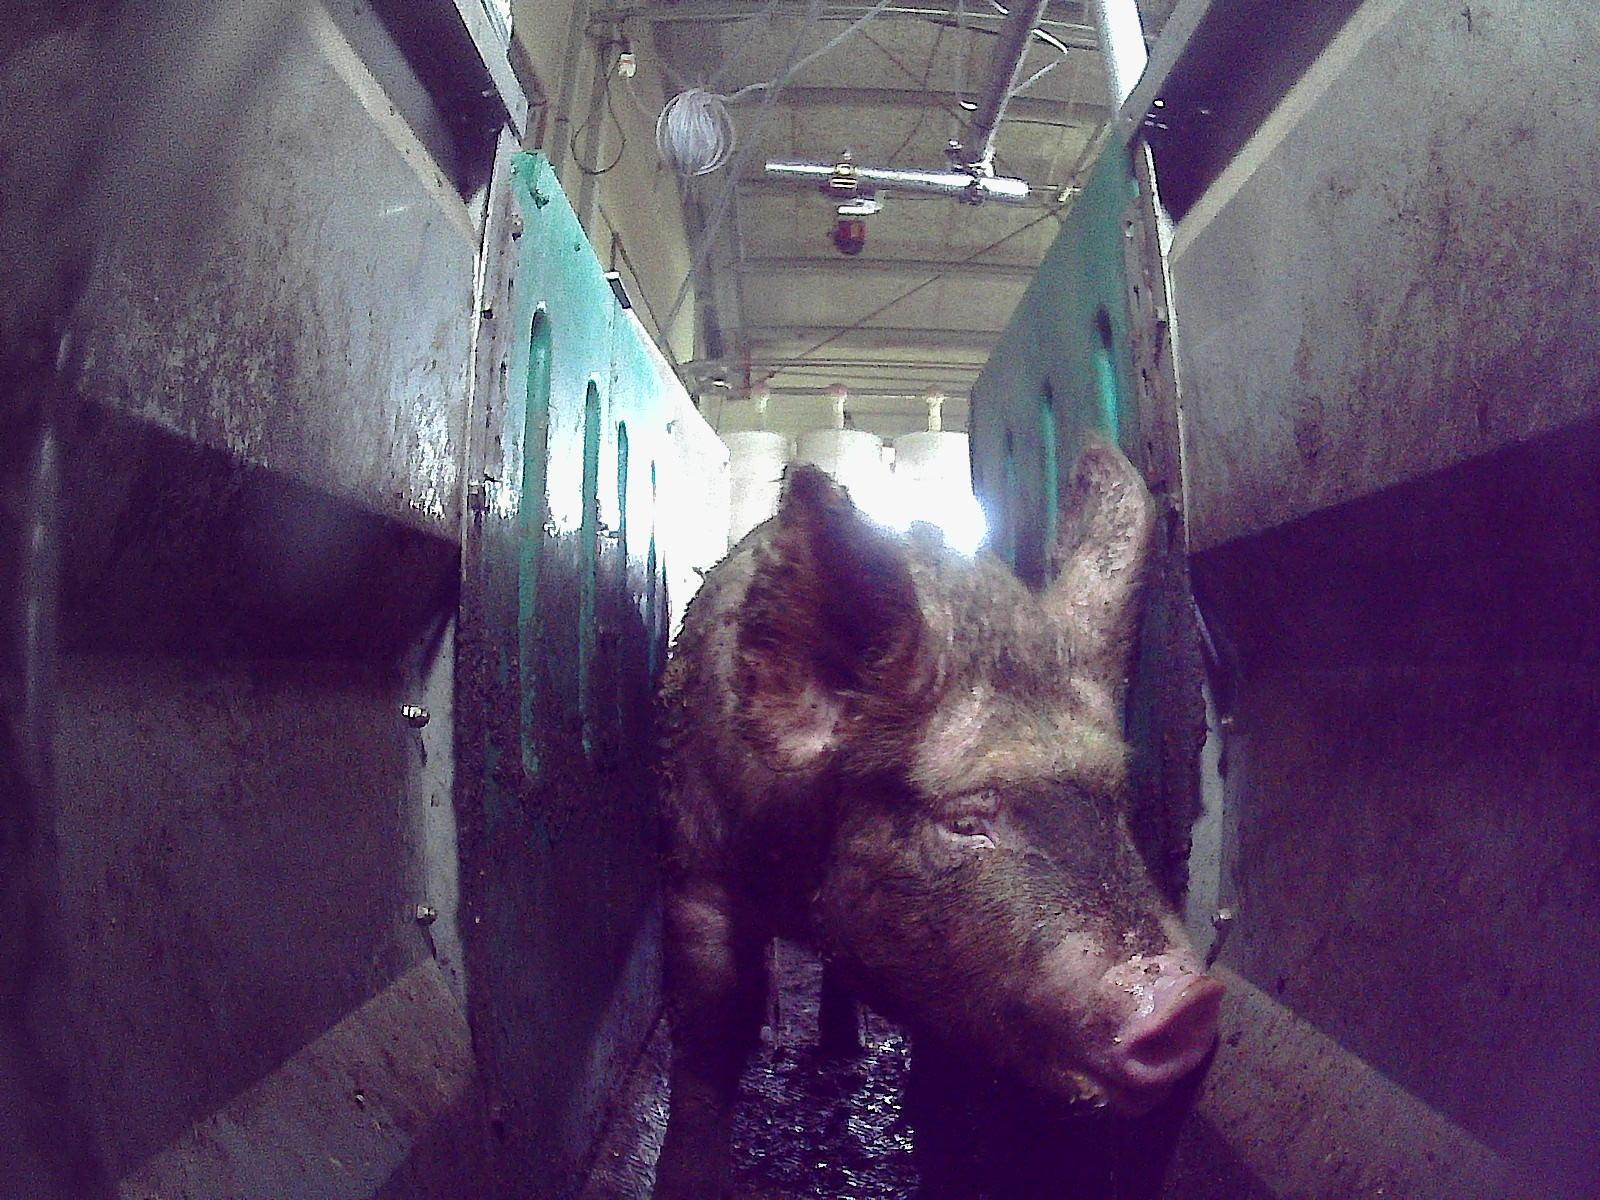Face: (776, 548, 1223, 1118)
